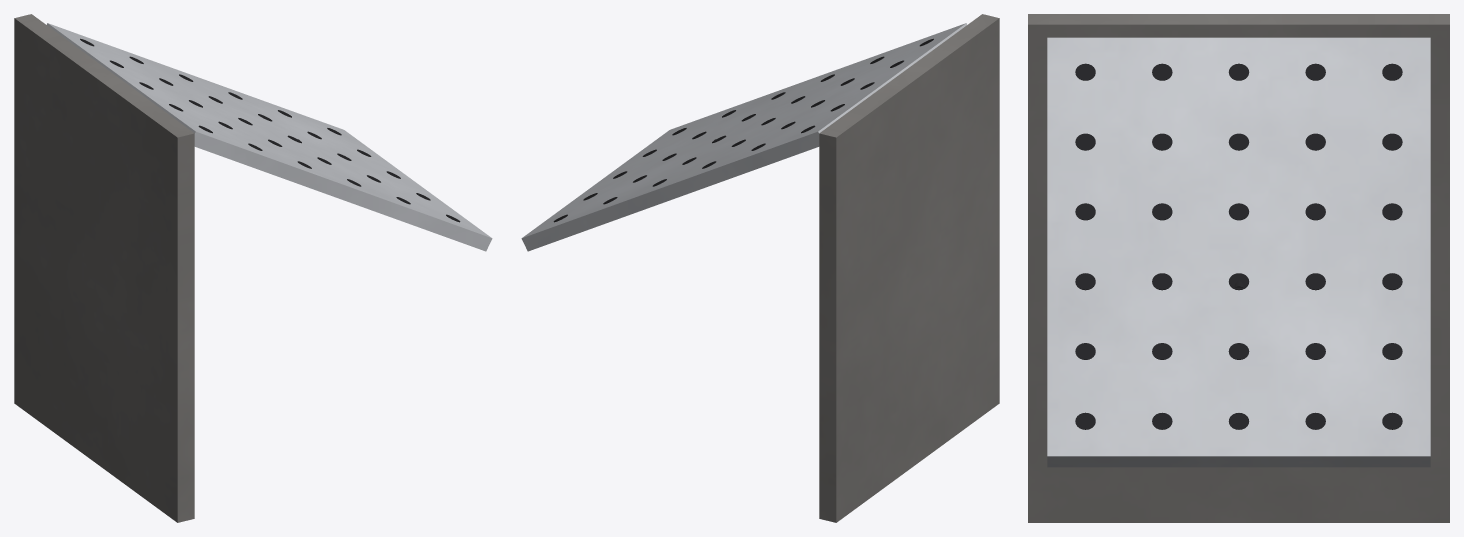
Rendered from aero07_airbrake_s_deployed.glb.
3 views of the same model, side by side, from view 1: azimuth 30°, elevation 25°; view 2: azimuth 150°, elevation 25°; view 3: azimuth 270°, elevation 25° (orthographic). The views are drawn at different scales.
Parts seen in each view (by area): view 1: base_frame, panel_brake, panel_perforations; view 2: base_frame, panel_brake, panel_perforations; view 3: panel_brake, base_frame, panel_perforations.
Boxes of the visible parts, bbox=[...] form: base_frame: bbox=[14, 14, 194, 522]; panel_brake: bbox=[47, 23, 492, 251]; panel_perforations: bbox=[80, 38, 460, 222]; base_frame: bbox=[819, 14, 999, 522]; panel_brake: bbox=[521, 23, 966, 251]; panel_perforations: bbox=[553, 38, 933, 222]; panel_brake: bbox=[1047, 37, 1430, 467]; base_frame: bbox=[1028, 14, 1449, 522]; panel_perforations: bbox=[1075, 63, 1402, 429].
Bounding box in the file's own units: 0.7528 × 0.86 × 0.66.
3 materials, 2 textured.
